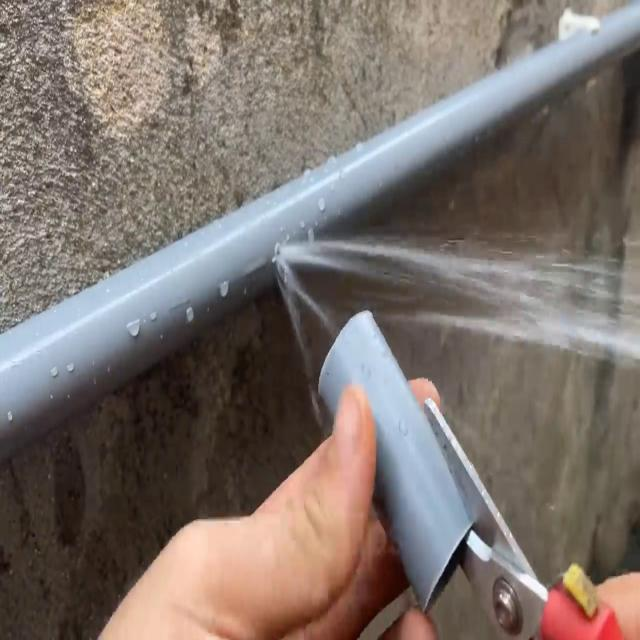leak: (274, 231, 640, 432)
